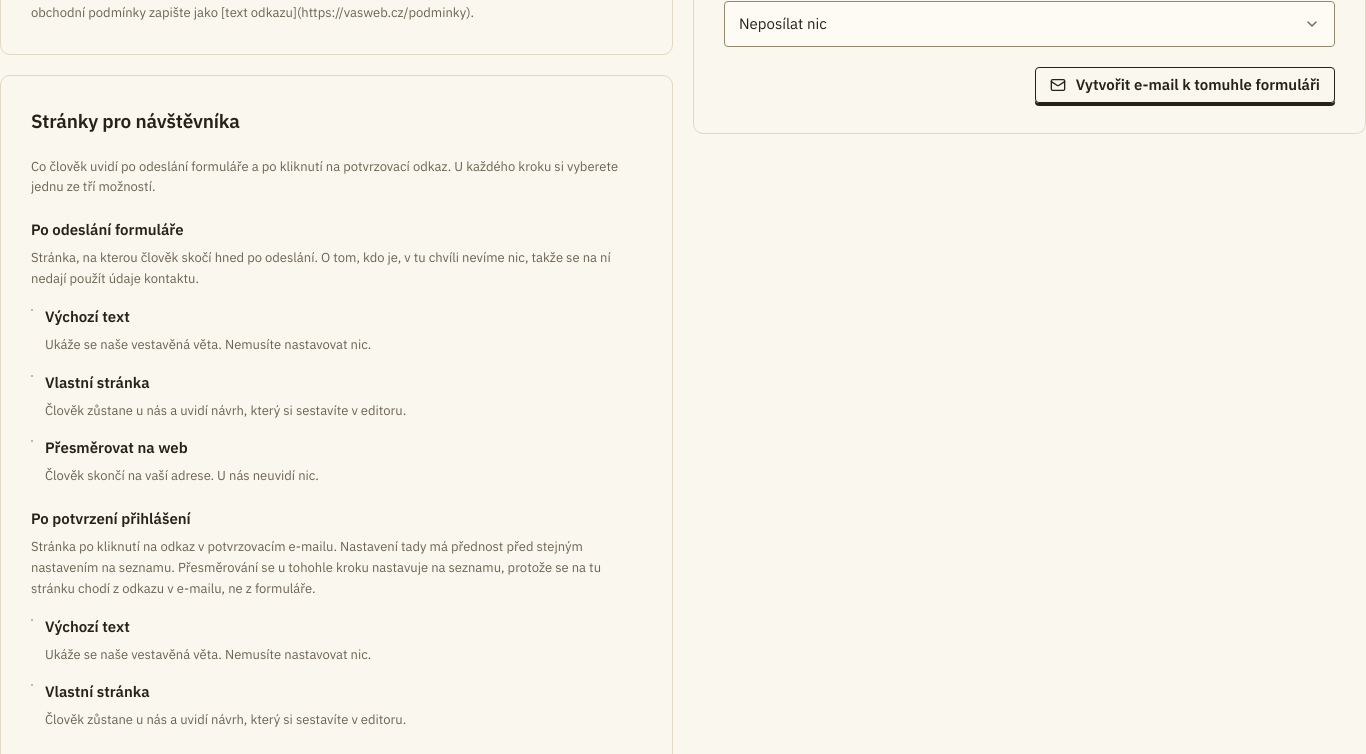
Test case: FormEditor a stránky pro návštěvníka › výběr nabízí stránky, ne e-maily formuláře
(page scrolled)
Step 1. Click the 2nd radio button → [32, 376], box [31,374,33,376]
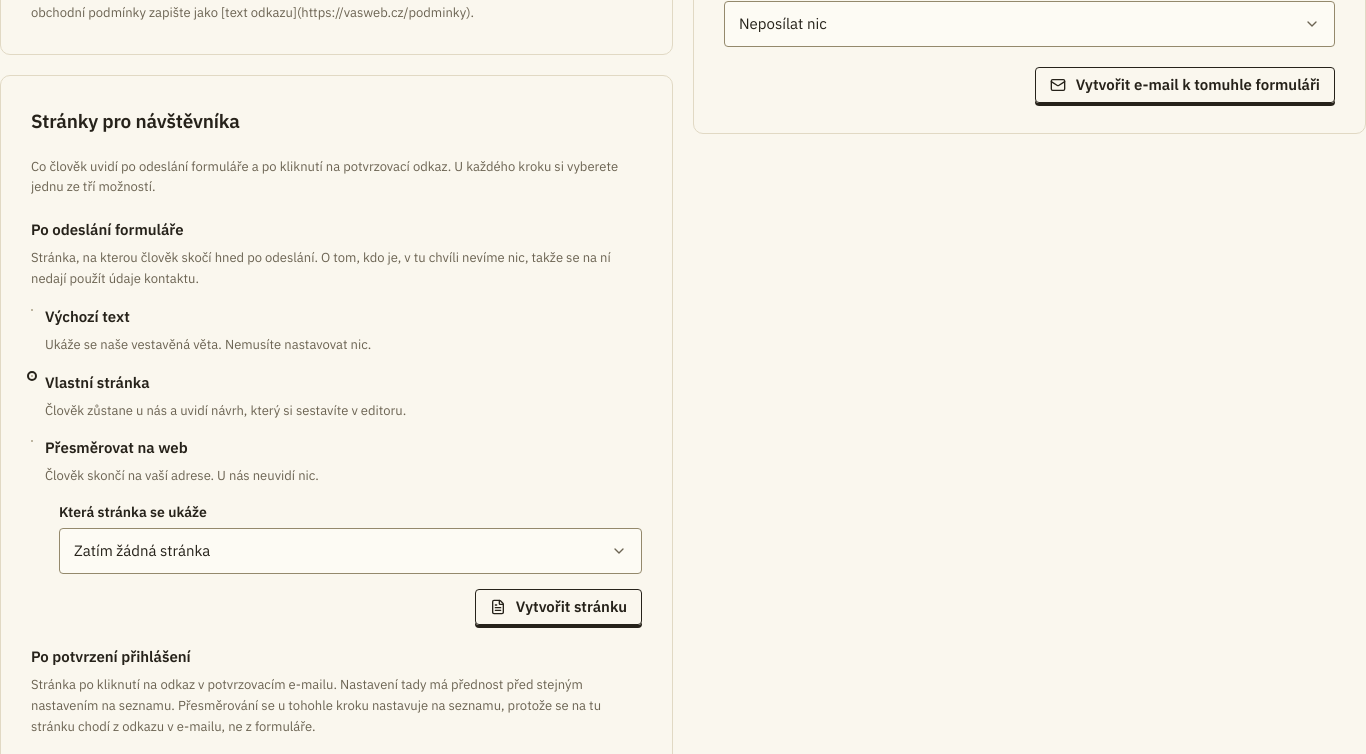
Step 2. Click the dropdown labelled "Zatím žádná stránka" → [142, 551], box [59,528,642,574]
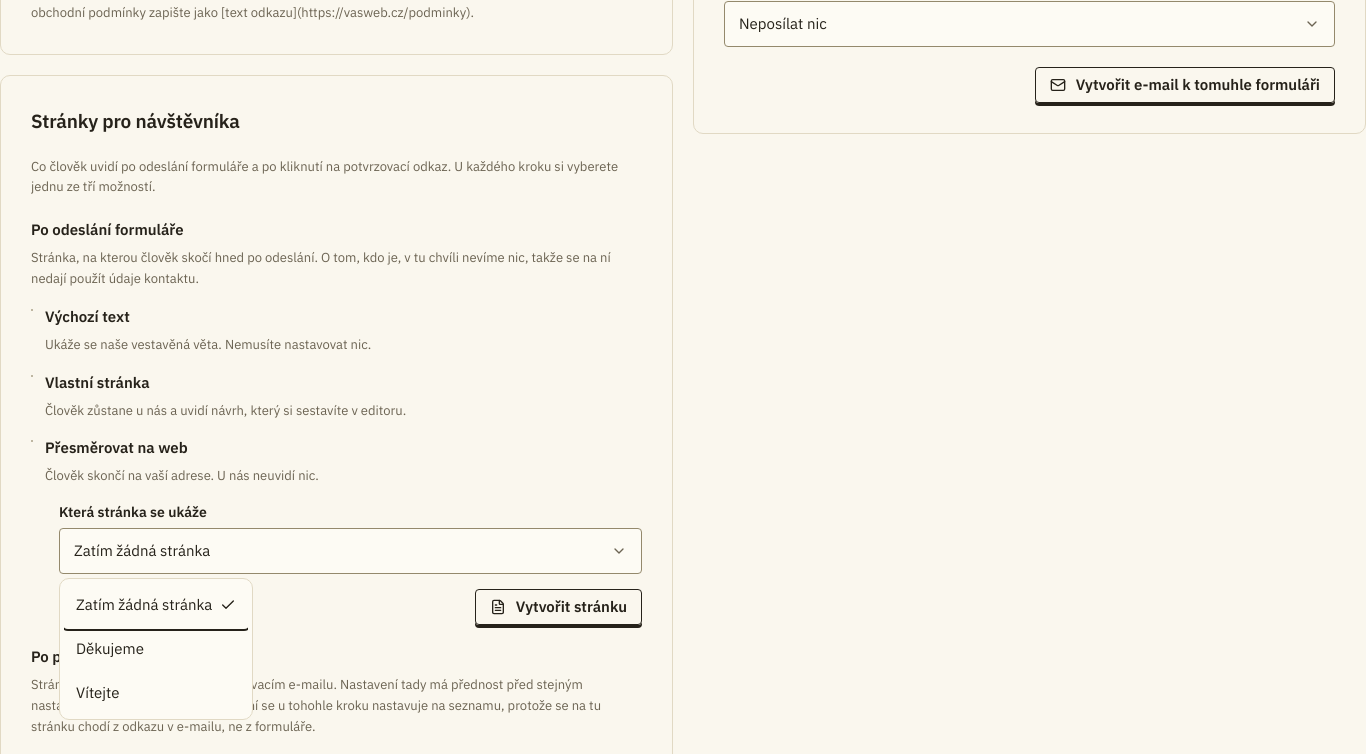
Check: the option "Děkujeme" is shown, box [76,639,144,658]
Check: the option "Vítejte" is shown, box [76,683,120,702]
